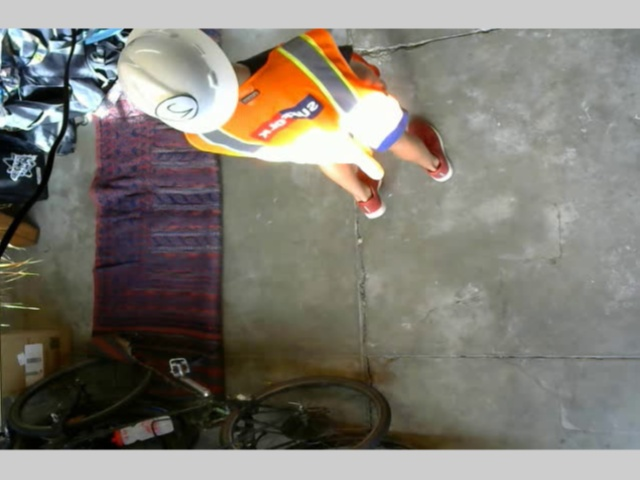two: (157, 94, 197, 122)
